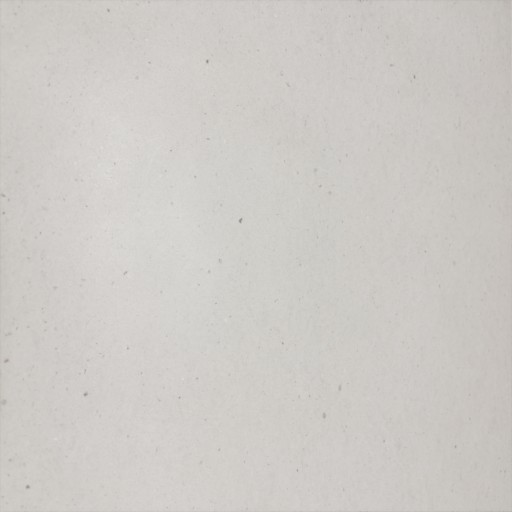lego: (238, 212, 277, 302)
